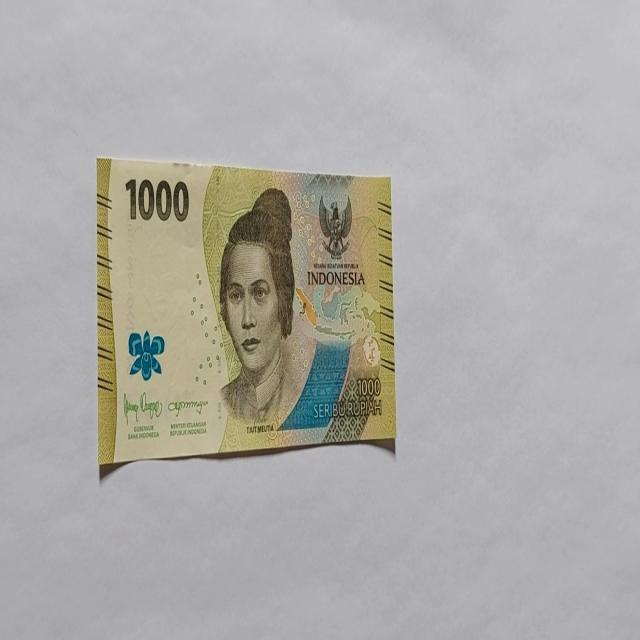seribu rupiah kertas: (96, 156, 396, 470)
